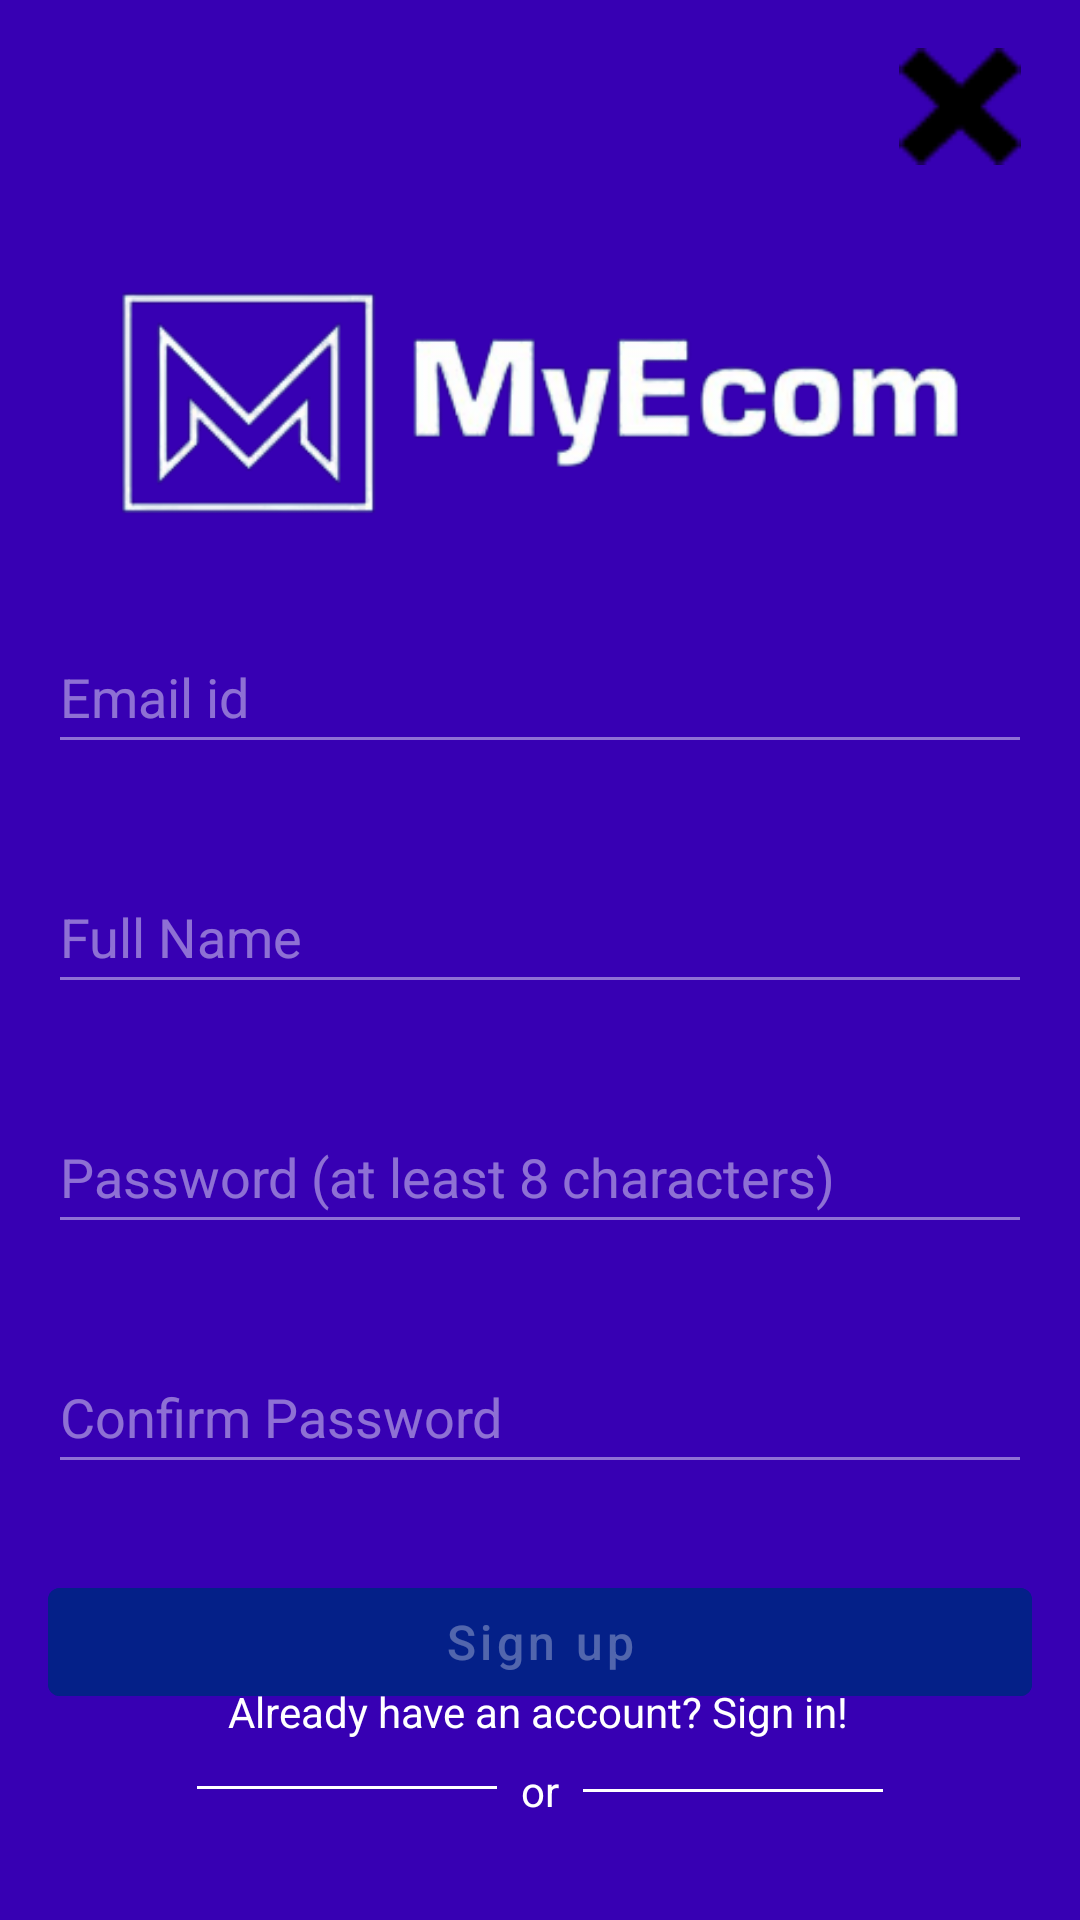

Where to tap for icons on this 1080w x 1920h app screen, as (x=x, y=y):
close cross: (x=960, y=106)
